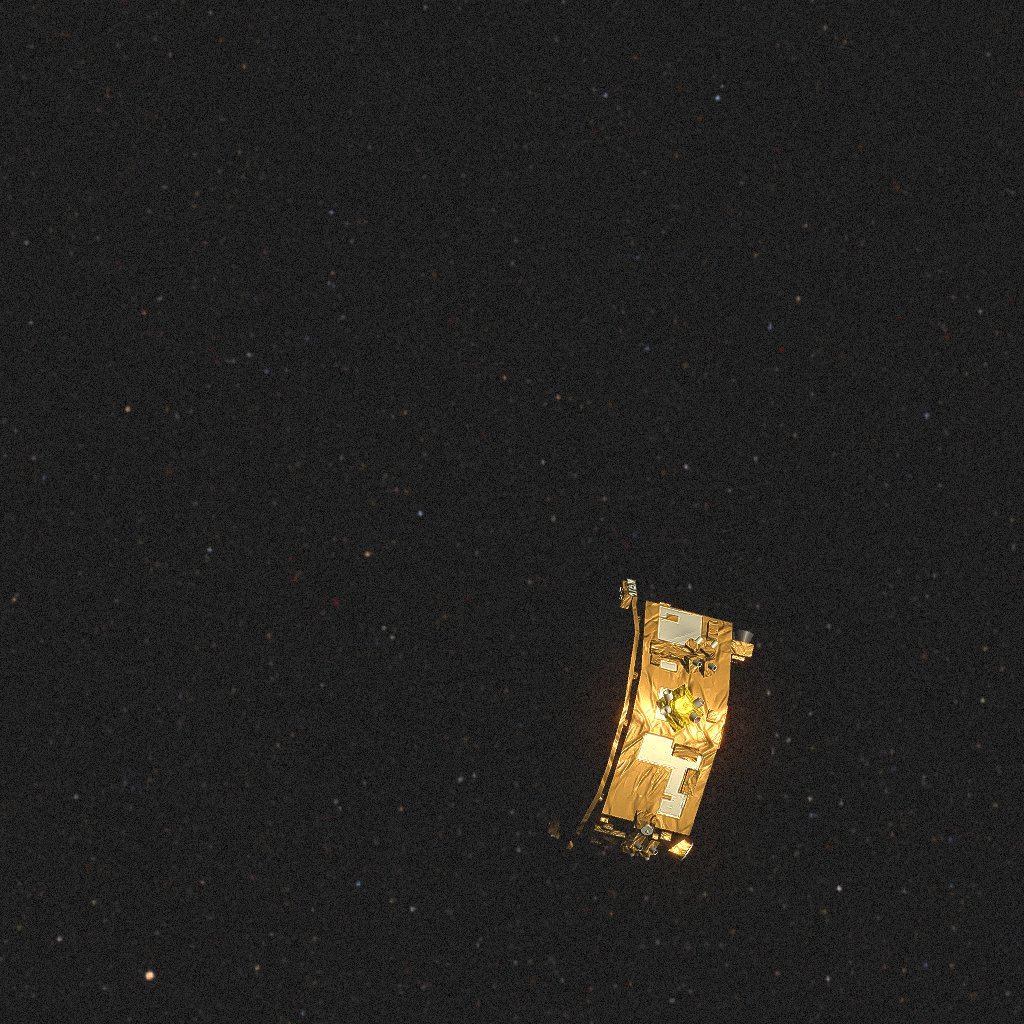lisa_pathfinder: (547, 579, 754, 862)
